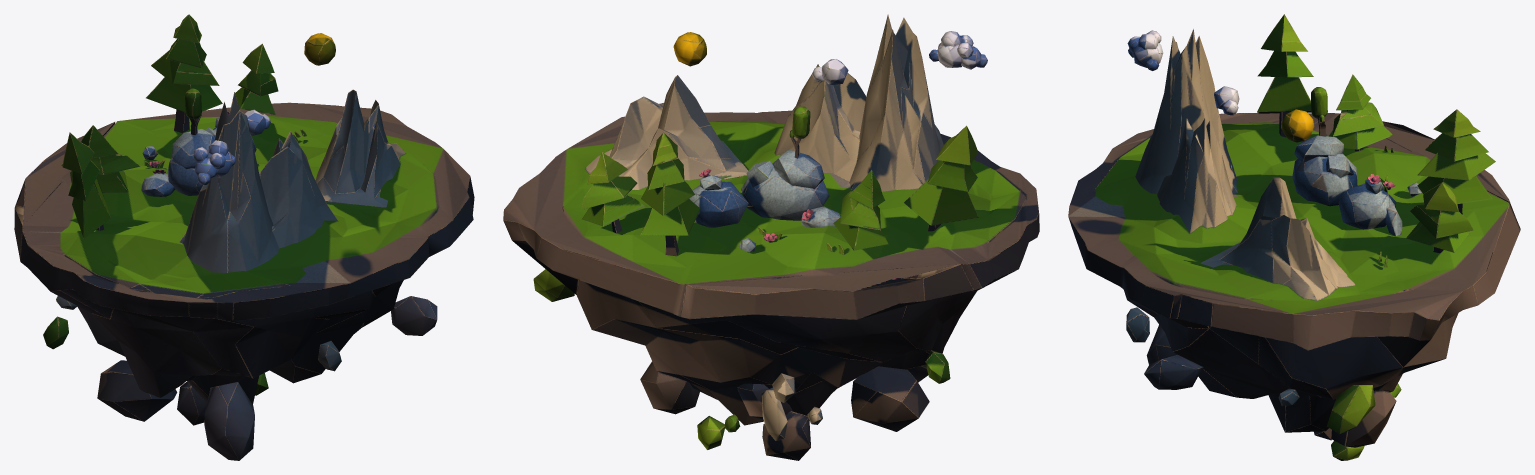
The model's file is lowpoly_island.glb.
3 renders of one model, left to right at view 1: azimuth 30°, elevation 25°; view 2: azimuth 150°, elevation 25°; view 3: azimuth 270°, elevation 25°, orthographic. The views are drawn at different scales.
Visible parts, largest first — view 1: Object_2; view 2: Object_2; view 3: Object_2.
Boxes of the visible parts, x1,y1,x2,y2 form: Object_2: [14, 14, 474, 460]; Object_2: [503, 14, 1039, 460]; Object_2: [1068, 14, 1520, 460].
Bounding box in the file's own units: 307 × 265 × 278.
1 material, 1 textured.
